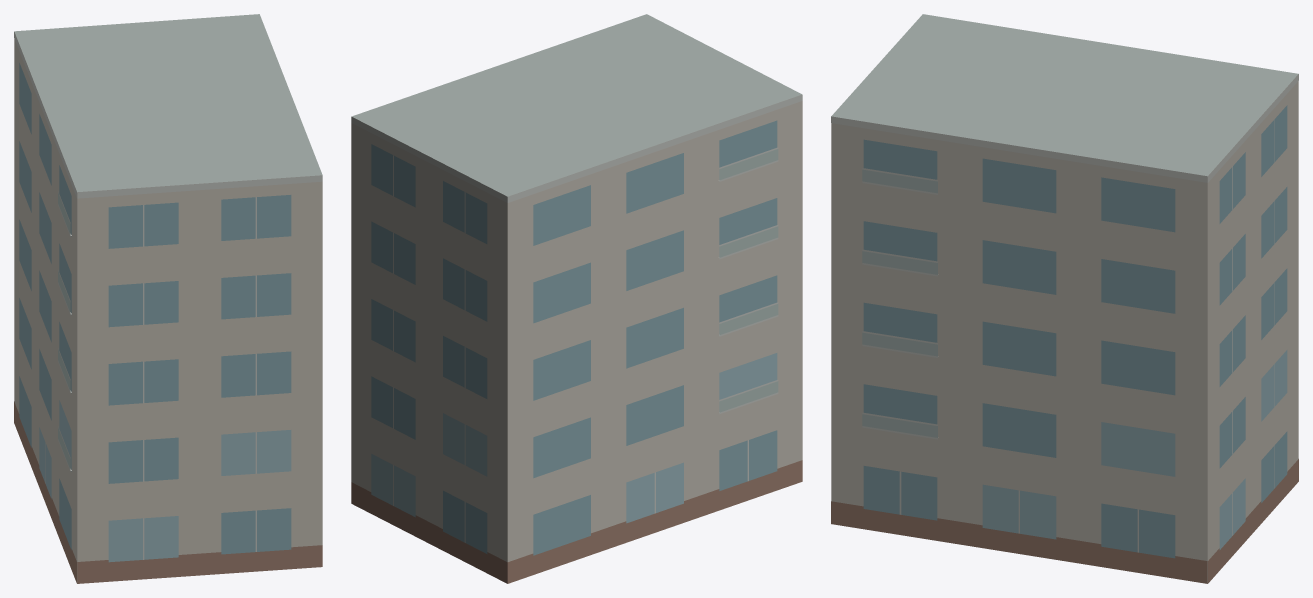
File: survey-upis-32704083.glb
3 renders of one model, left to right at view 1: azimuth 30°, elevation 25°; view 2: azimuth 150°, elevation 25°; view 3: azimuth 270°, elevation 25°, orthographic. The views are drawn at different scales.
Parts seen in each view (by area): view 1: survey-upis-32704083.tmp; view 2: survey-upis-32704083.tmp; view 3: survey-upis-32704083.tmp.
Part boxes in pixels (box(x1,y1,x2,y2)): survey-upis-32704083.tmp: box(14, 14, 322, 583); survey-upis-32704083.tmp: box(351, 14, 802, 583); survey-upis-32704083.tmp: box(831, 14, 1298, 583).
Bounding box in the file's own units: 12.64 × 14.8 × 15.4.
